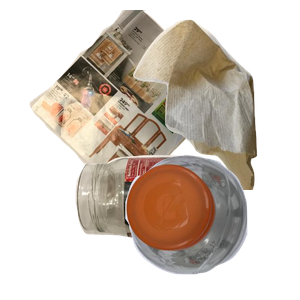glass: (73, 153, 284, 300)
paper: (27, 10, 230, 190)
plastic: (123, 152, 300, 300)
trash: (131, 17, 300, 197)
